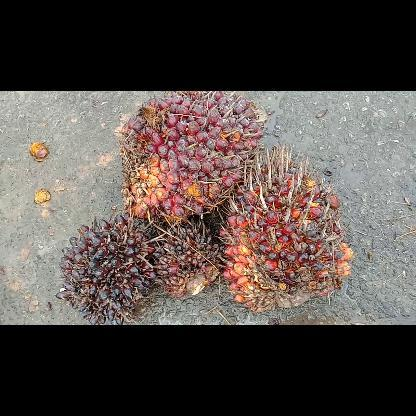TBS abnormal: (53, 212, 158, 324), (152, 218, 226, 300)
TBS masak: (216, 140, 356, 312), (117, 92, 268, 224)
